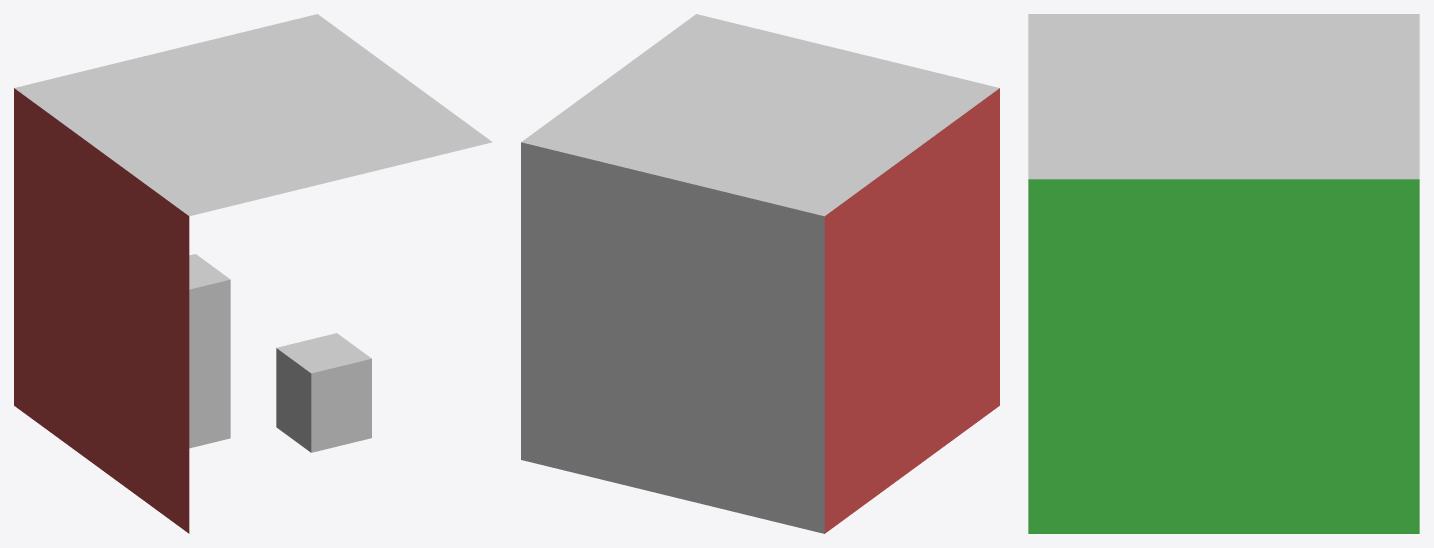
File: cornell_box.gltf
The picture shows the model from 3 angles, left to right: view 1: azimuth 30°, elevation 25°; view 2: azimuth 150°, elevation 25°; view 3: azimuth 270°, elevation 25°; orthographic projection. The views are drawn at different scales.
Visible parts, largest first — view 1: Left Wall, Ceiling, Short Box, Tall Box; view 2: Back Wall, Left Wall, Ceiling; view 3: Right Wall, Ceiling.
Part boxes in pixels (<box>): Left Wall: <box>14,88,189,533</box>; Ceiling: <box>14,14,492,216</box>; Short Box: <box>276,333,371,452</box>; Tall Box: <box>189,254,230,448</box>; Back Wall: <box>521,142,824,533</box>; Left Wall: <box>824,88,999,533</box>; Ceiling: <box>521,14,999,216</box>; Right Wall: <box>1028,179,1419,533</box>; Ceiling: <box>1028,14,1419,179</box>.
Bounding box in the file's own units: 2 × 2 × 2.
